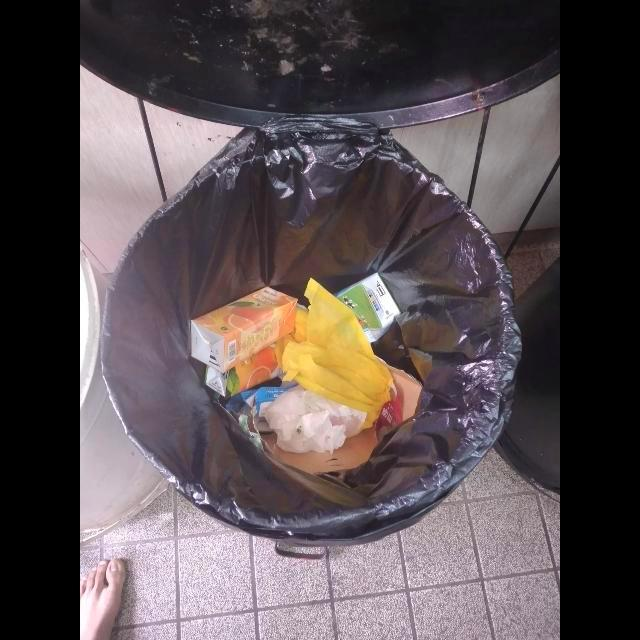cardboard: (260, 358, 422, 475)
paper: (264, 385, 367, 454)
